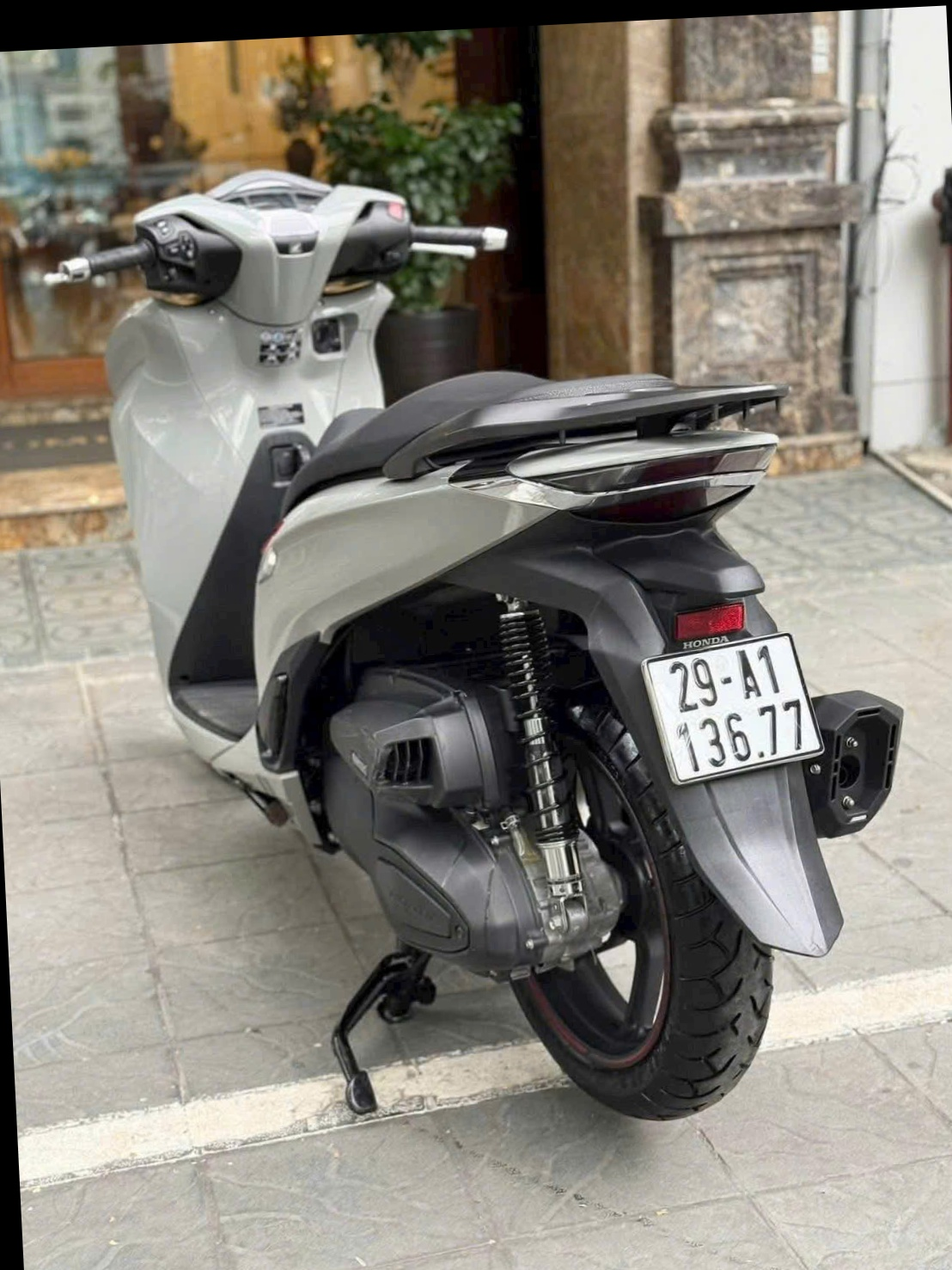Bien-so: (638, 622, 840, 785)
